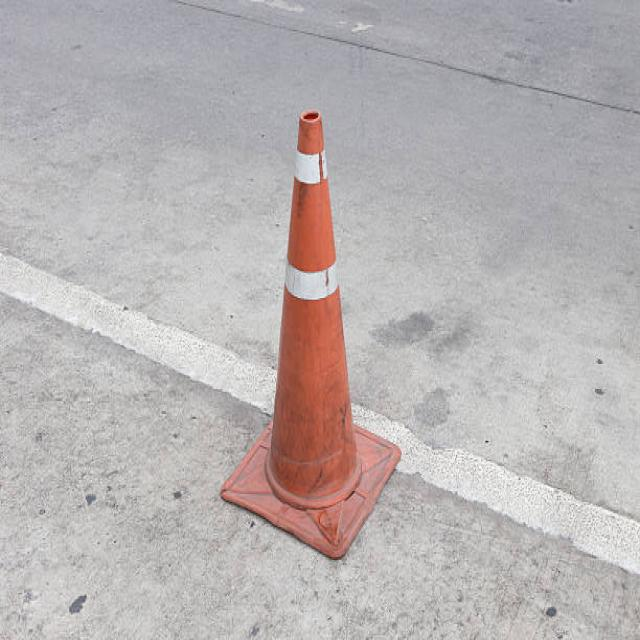Traffic Cone: (217, 87, 408, 575)
